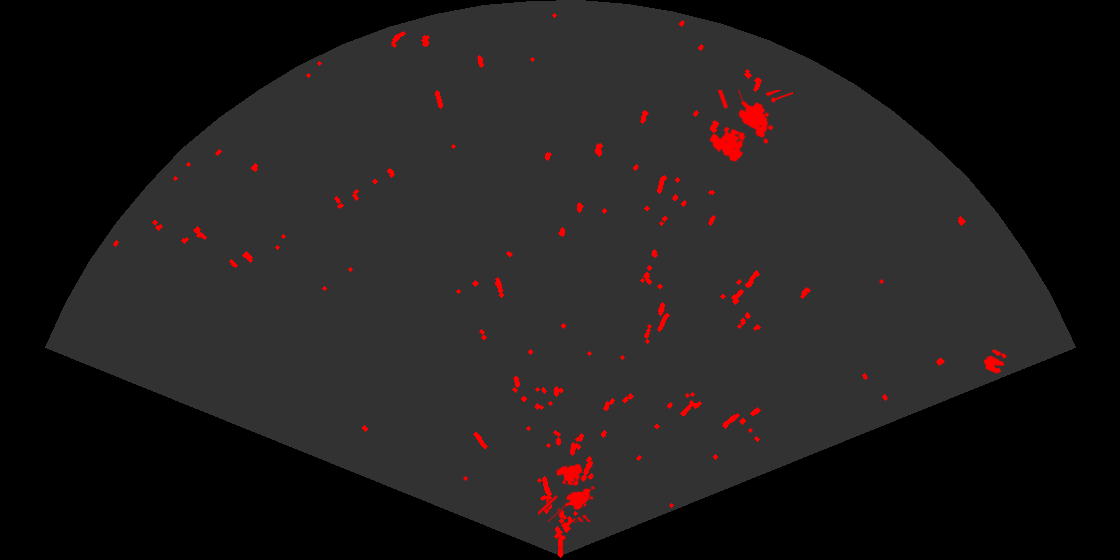ball: (982, 347, 1009, 375)
cage: (708, 90, 793, 163), (538, 462, 596, 522)
